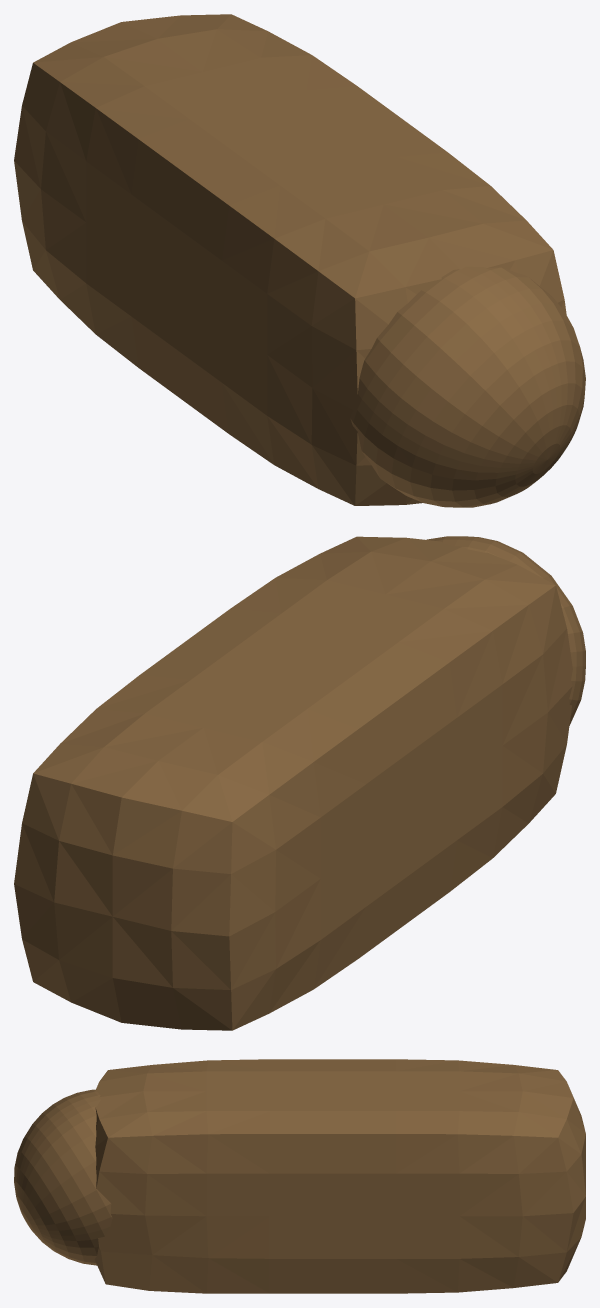
File: RightFingerJoint11y_joint_visu.dae
The picture shows the model from 3 angles, top to bottom: view 1: azimuth 30°, elevation 25°; view 2: azimuth 150°, elevation 25°; view 3: azimuth 270°, elevation 25°; orthographic projection. The views are drawn at different scales.
Visible parts, largest first — view 1: node; view 2: node; view 3: node.
Boxes of the visible parts, bbox=[...] form: node: bbox=[14, 14, 585, 507]; node: bbox=[14, 536, 585, 1030]; node: bbox=[14, 1059, 585, 1293].
Size of the model in its own units: 0.00864 by 0.00864 by 0.0263.
